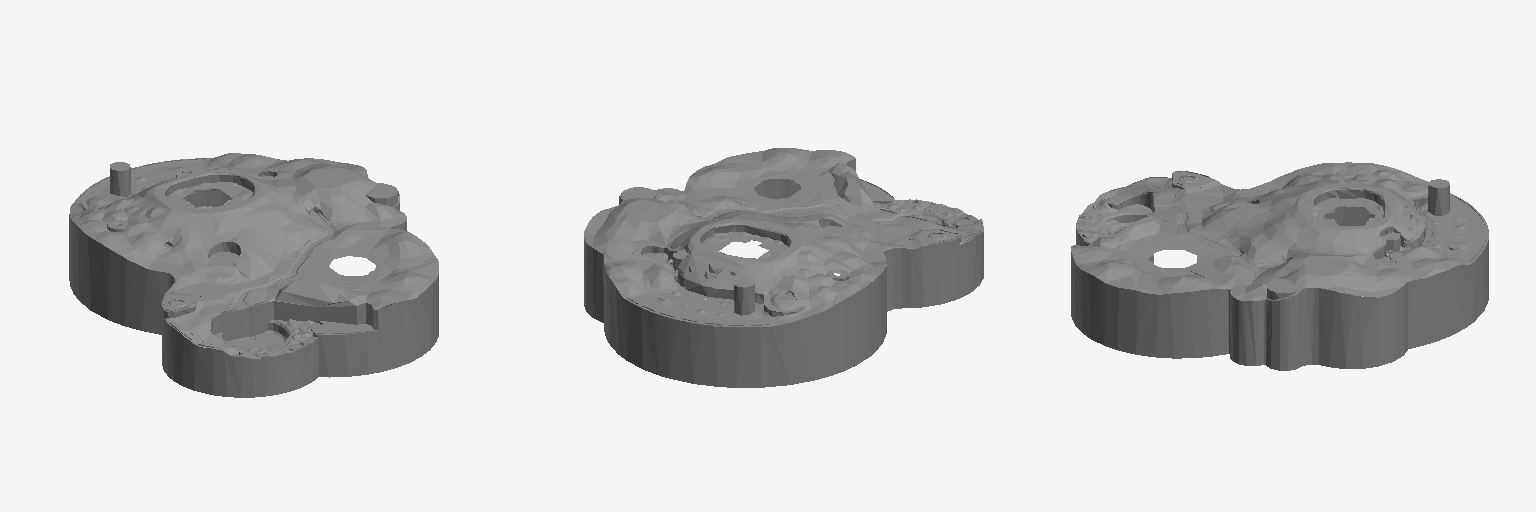
File: PeachWorldHomeGround.obj
3 renders of one model, left to right at view 1: azimuth 30°, elevation 25°; view 2: azimuth 150°, elevation 25°; view 3: azimuth 270°, elevation 25°, orthographic.
Visible parts, largest first — view 1: polySurface1605_10__FenceWood01; view 2: polySurface1605_10__FenceWood01; view 3: polySurface1605_10__FenceWood01.
Part boxes in pixels (x1,y1,x2,y2): polySurface1605_10__FenceWood01: (69, 153, 438, 397); polySurface1605_10__FenceWood01: (584, 148, 983, 387); polySurface1605_10__FenceWood01: (1071, 162, 1488, 370).
Bounding box in the file's own units: 30588 × 9112 × 38406.